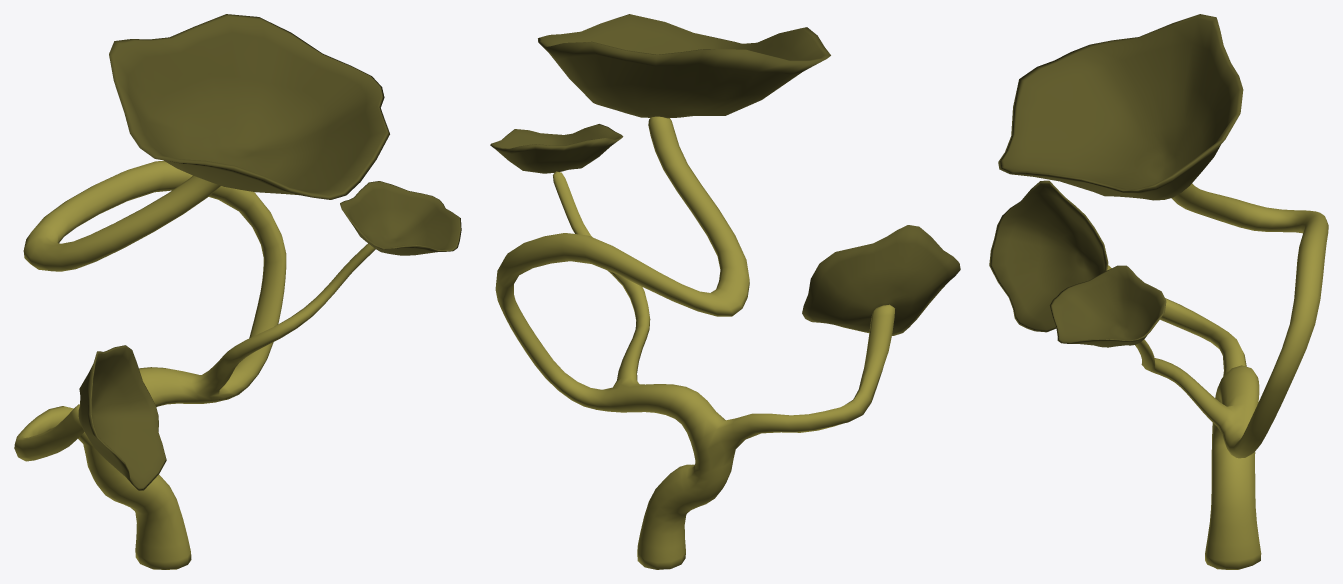
File: kabak-1.fbx
The picture shows the model from 3 angles, left to right: view 1: azimuth 30°, elevation 25°; view 2: azimuth 150°, elevation 25°; view 3: azimuth 270°, elevation 25°; orthographic projection. The views are drawn at different scales.
Visible parts, largest first — view 1: mantar.074; view 2: mantar.074; view 3: mantar.074.
Part boxes in pixels (x1,y1,x2,y2): mantar.074: (14, 14, 461, 569); mantar.074: (490, 14, 960, 569); mantar.074: (989, 14, 1328, 569).
Bounding box in the file's own units: 28.01 × 34.69 × 20.55.
